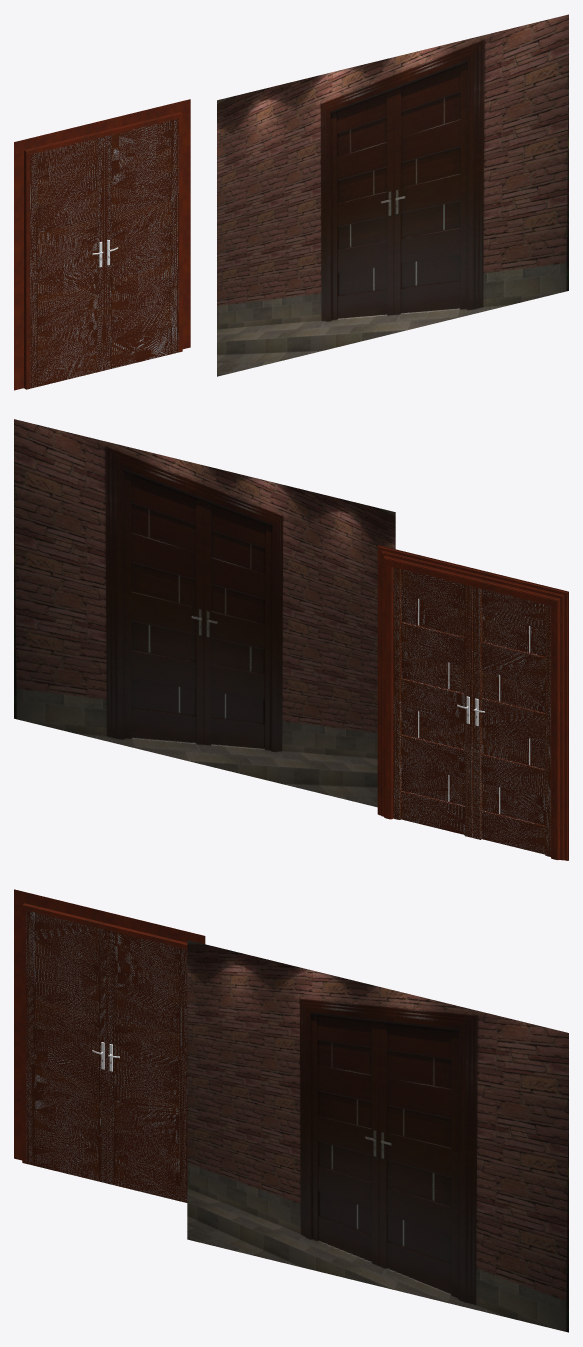
The model's file is Door.dae.
The picture shows the model from 3 angles, top to bottom: view 1: azimuth 30°, elevation 25°; view 2: azimuth 150°, elevation 25°; view 3: azimuth 330°, elevation 25°; orthographic projection. The views are drawn at different scales.
Parts seen in each view (by area): view 1: image_0, panel_beam (×10), panel_cover (×8), panel_column (×4), Chair_Rail4, group_0; view 2: image_0, panel_beam (×10), panel_cover (×8), Chair_Rail4, panel_column (×4), group_0; view 3: image_0, panel_beam (×10), panel_cover (×8), panel_column (×4), Chair_Rail4, group_0.
Boxes of the visible parts, x1=… form: image_0: x1=217, y1=14, x2=568, y2=376; panel_beam (×10): x1=37, y1=120, x2=171, y2=386; panel_cover (×8): x1=37, y1=147, x2=171, y2=360; panel_column (×4): x1=30, y1=118, x2=178, y2=388; Chair_Rail4: x1=14, y1=99, x2=190, y2=390; group_0: x1=24, y1=112, x2=182, y2=389; image_0: x1=14, y1=419, x2=395, y2=807; panel_beam (×10): x1=401, y1=569, x2=545, y2=854; panel_cover (×8): x1=401, y1=594, x2=545, y2=825; Chair_Rail4: x1=377, y1=545, x2=568, y2=860; panel_column (×4): x1=393, y1=567, x2=550, y2=856; group_0: x1=386, y1=560, x2=555, y2=859; image_0: x1=187, y1=940, x2=568, y2=1332; panel_beam (×10): x1=34, y1=912, x2=179, y2=1201; panel_cover (×8): x1=34, y1=941, x2=179, y2=1172; panel_column (×4): x1=26, y1=910, x2=187, y2=1202; Chair_Rail4: x1=14, y1=889, x2=205, y2=1160; group_0: x1=22, y1=903, x2=187, y2=1163.
Size of the model in its own units: 211 by 16.71 by 105.
